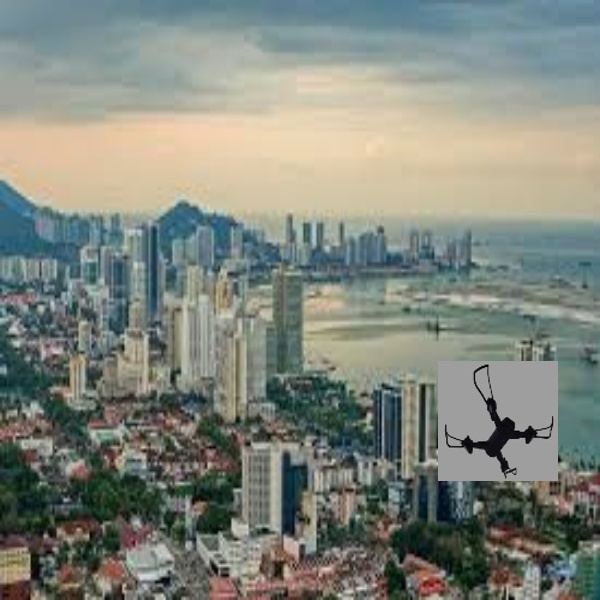drone: (446, 365, 558, 472)
